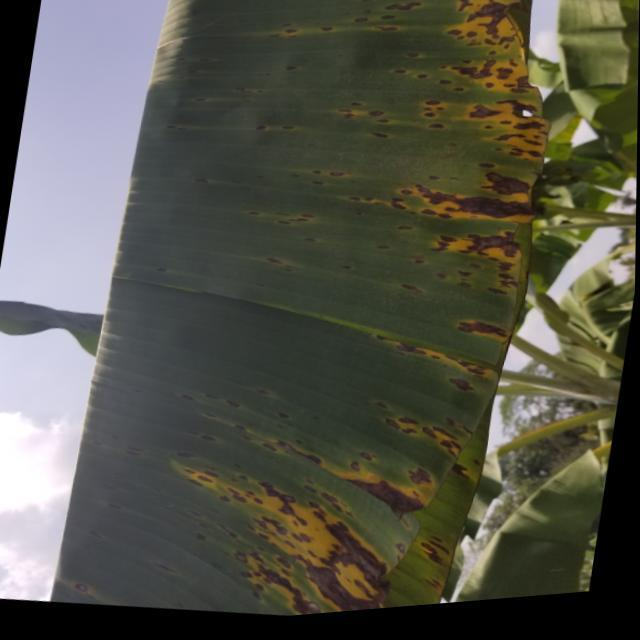Early_rust: (86, 0, 560, 640)
